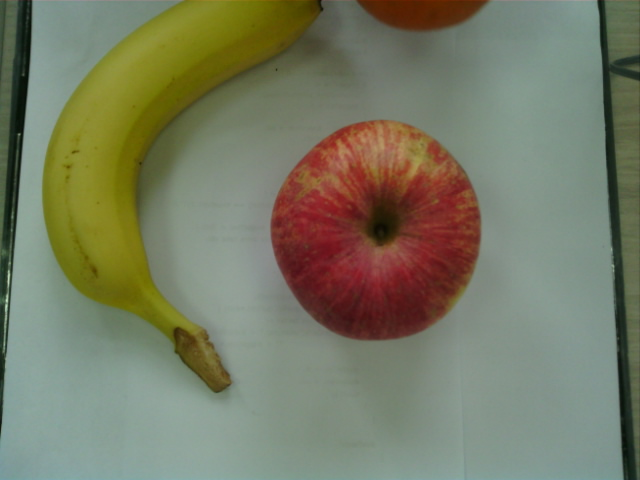normal_apple: (272, 122, 482, 346)
normal_banana: (44, 1, 314, 384)
